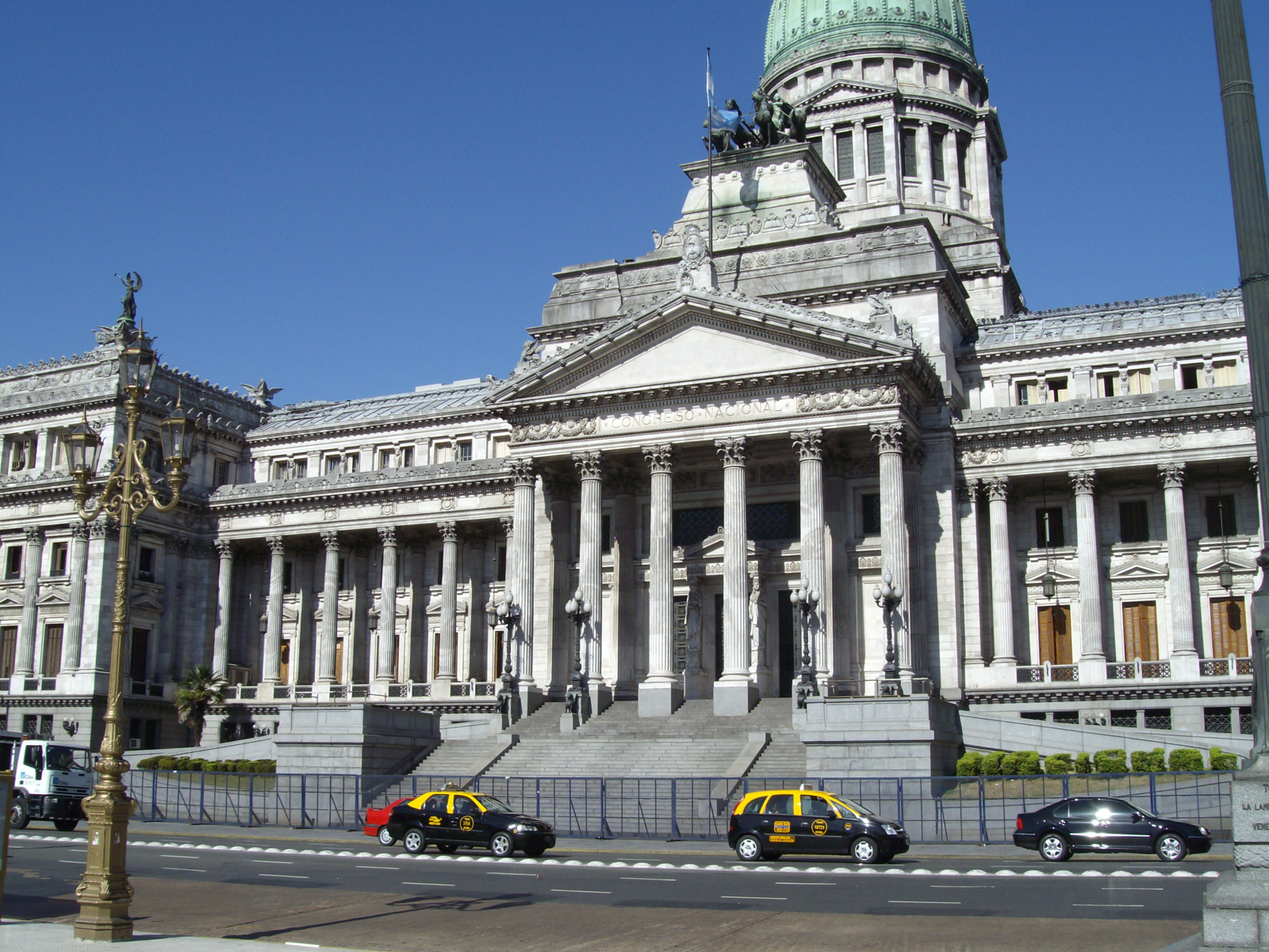fachada: (5, 3, 1237, 759)
poste: (71, 301, 214, 941), (1195, 0, 1269, 788)
